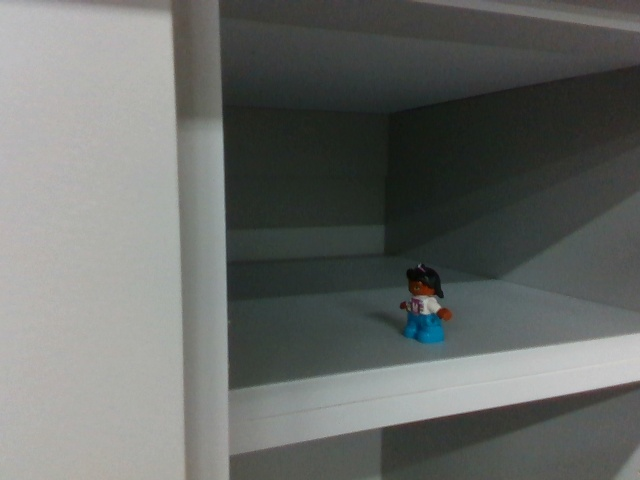people: (398, 262, 454, 348)
